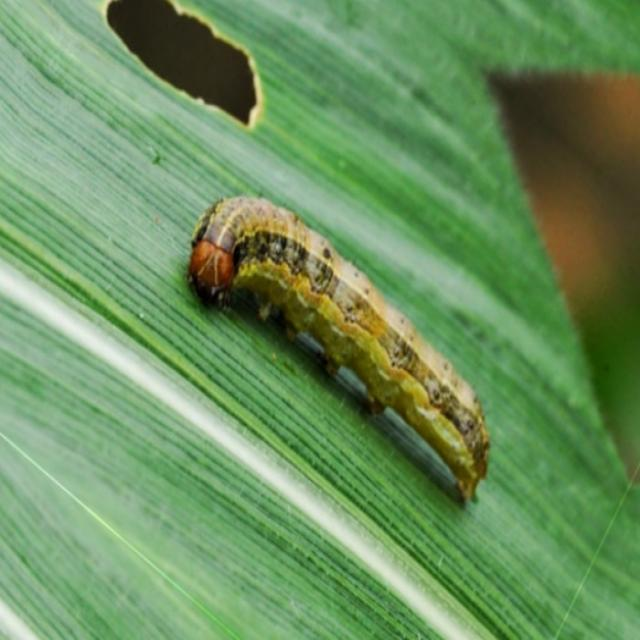Armyworm: (191, 170, 498, 526)
Armyworm_damage: (72, 1, 287, 144)
